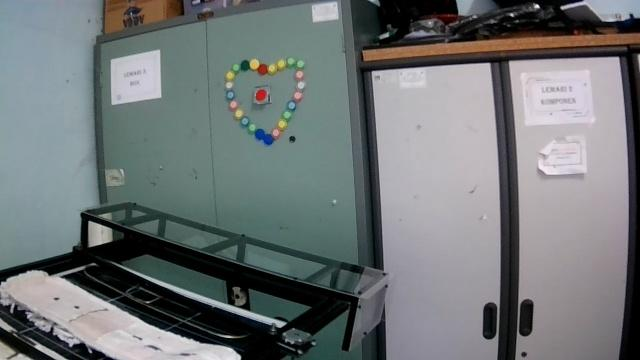Lemari: (361, 47, 639, 359), (95, 0, 363, 265)
